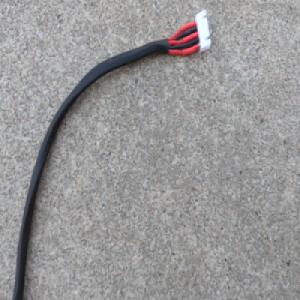Wire: (12, 6, 212, 300)
